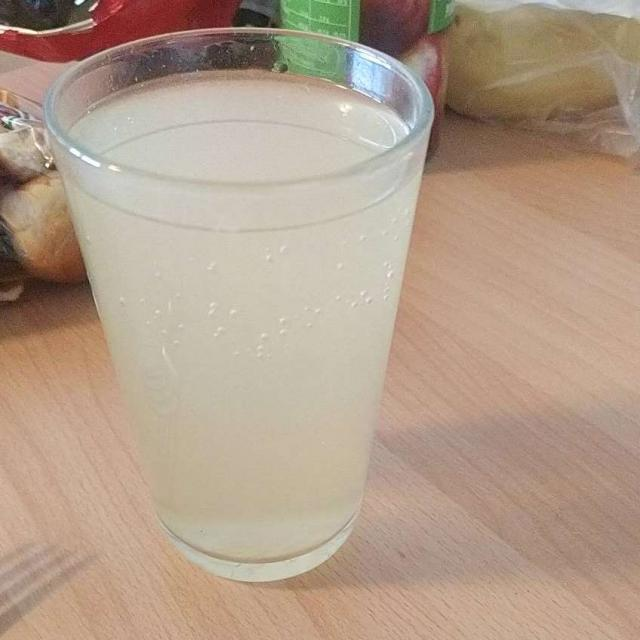syrup-diluted-ready-to-drink: (71, 62, 415, 554)
